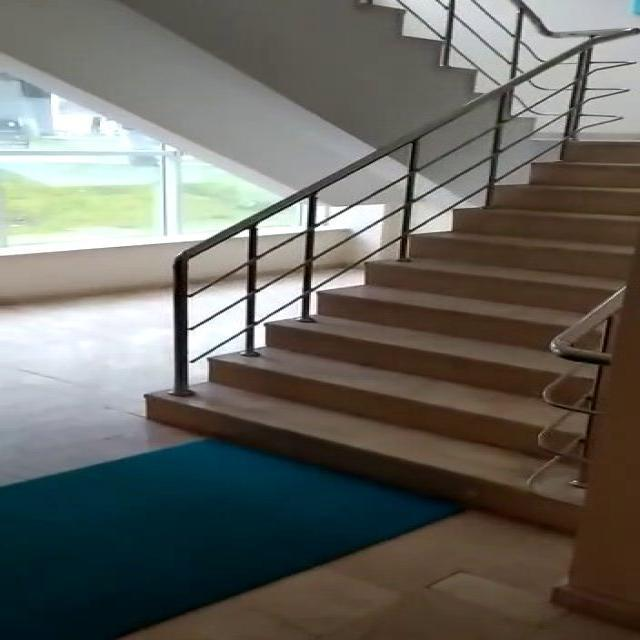stairs: (142, 137, 638, 533)
